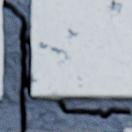brick: (31, 0, 131, 98), (0, 0, 2, 101), (123, 129, 131, 131)
broken_brick: (53, 130, 98, 131)
crack: (1, 0, 131, 131)
